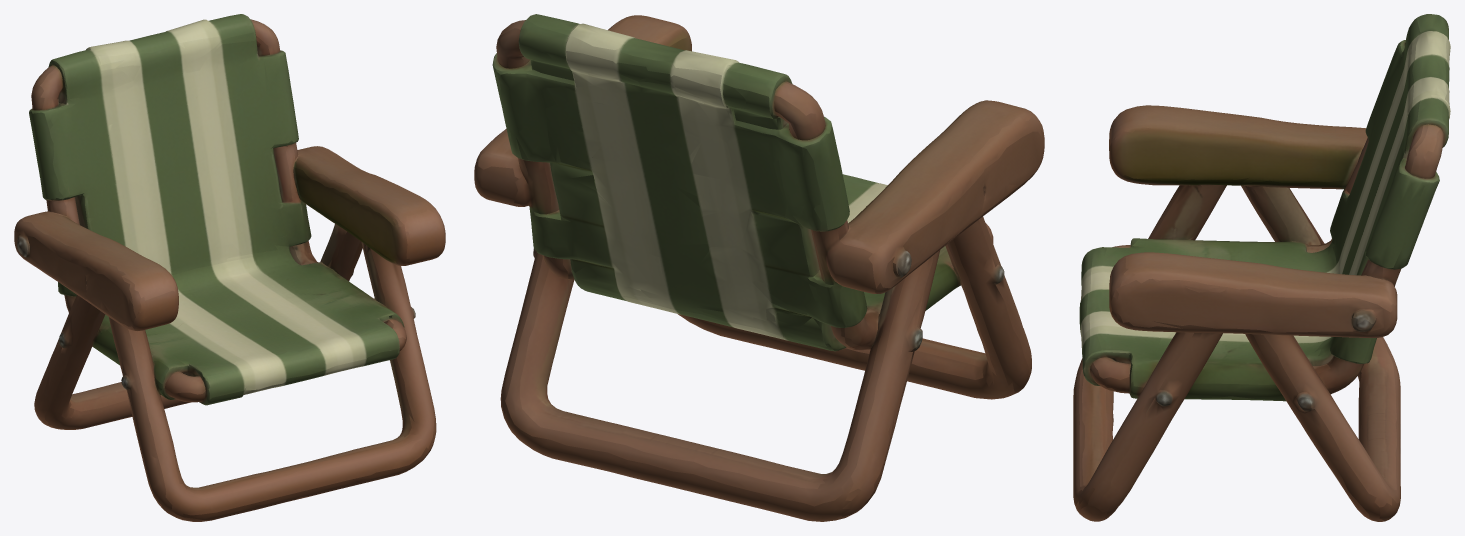
3 renders of one model, left to right at view 1: azimuth 30°, elevation 25°; view 2: azimuth 150°, elevation 25°; view 3: azimuth 270°, elevation 25°, orthographic. The views are drawn at different scales.
Visible parts, largest first — view 1: world; view 2: world; view 3: world.
Boxes of the visible parts, x1=… form: world: x1=14, y1=14, x2=445, y2=521; world: x1=474, y1=14, x2=1044, y2=521; world: x1=1073, y1=14, x2=1450, y2=521.
Bounding box in the file's own units: 0.5939 × 0.62 × 0.5298.
Materials: 1 (1 with a texture image).
